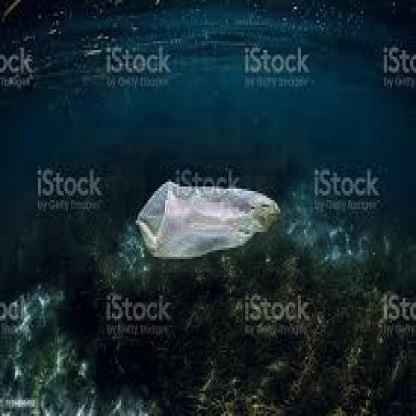pbag: (133, 178, 281, 262)
